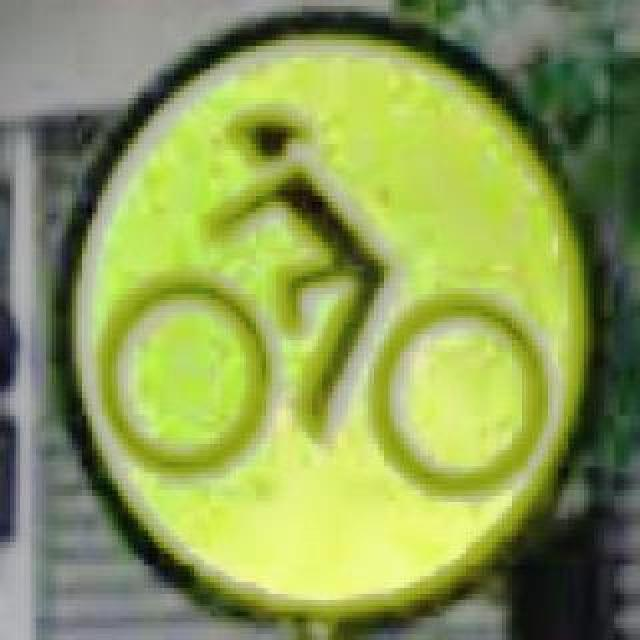bike lane: (50, 6, 594, 610)
